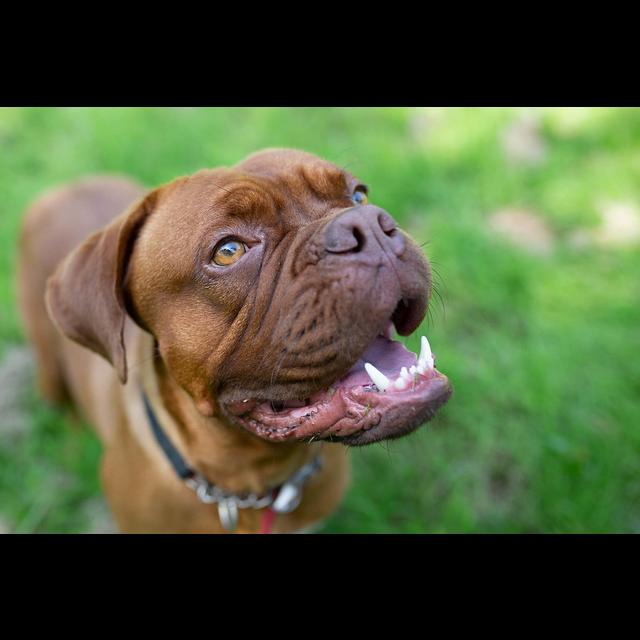dogue_de_bordeaux: (16, 146, 455, 533)
